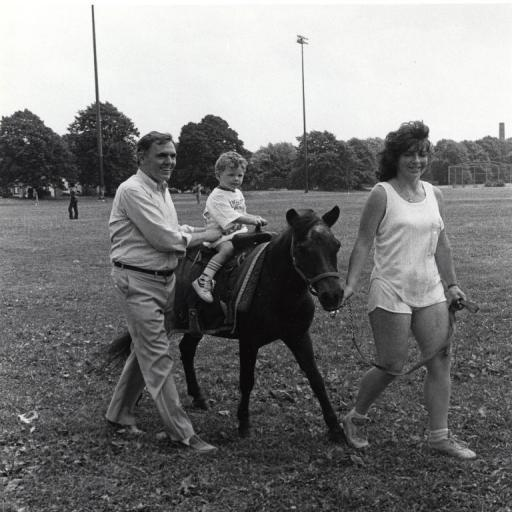horse: (102, 206, 352, 445)
